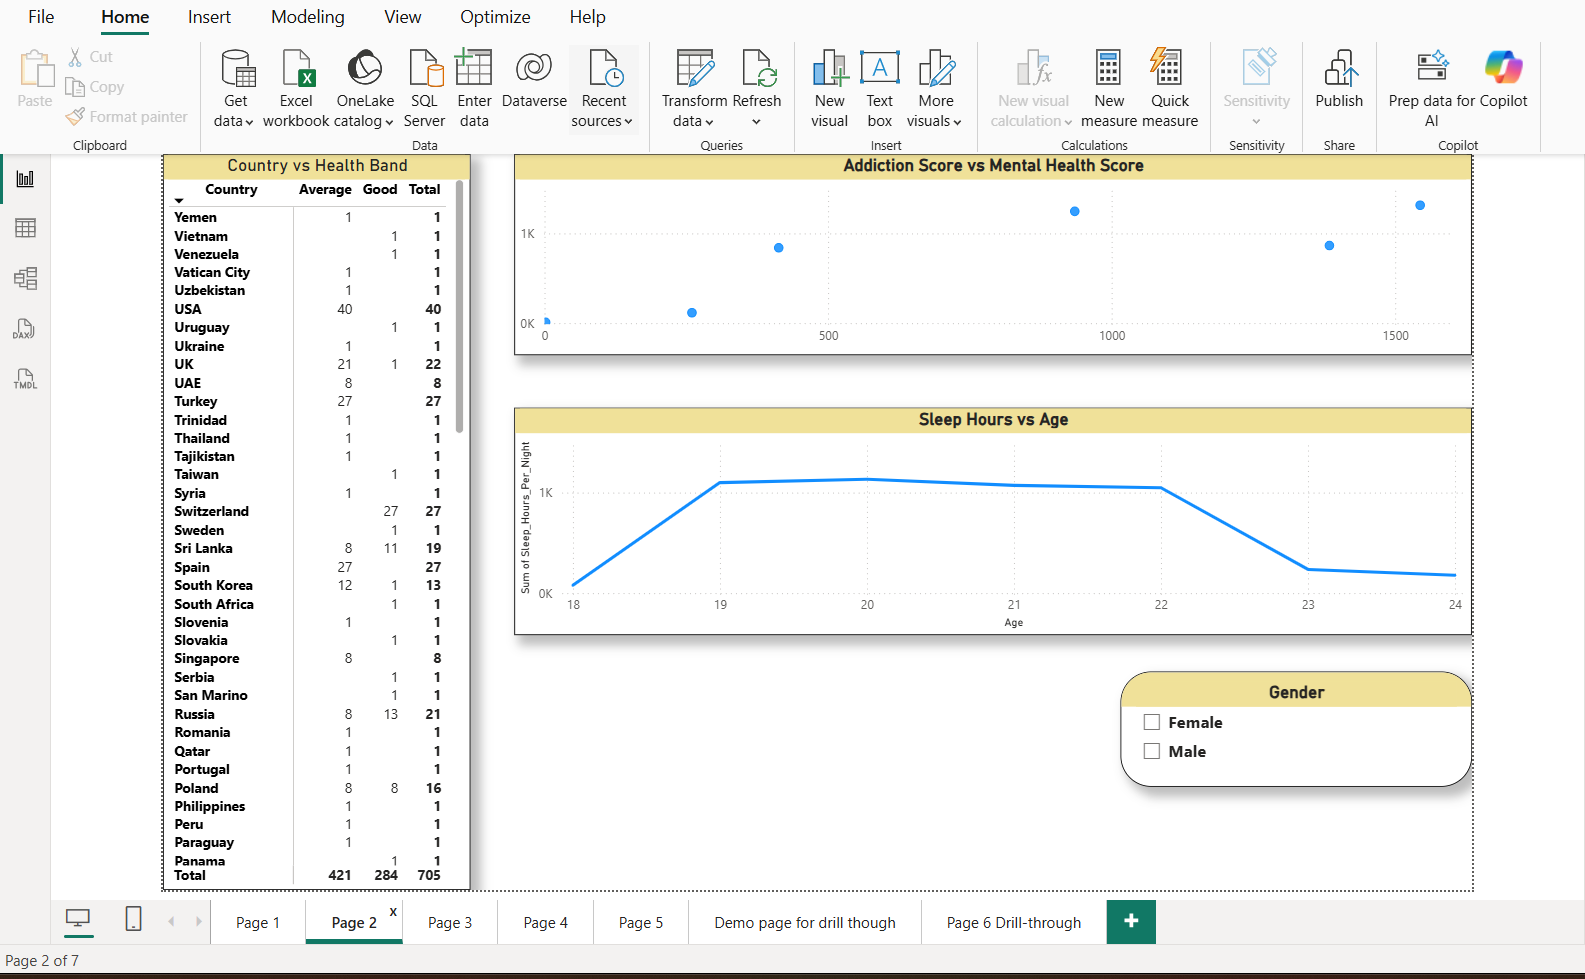

What the dashboard file says about the page in this screenshot:
{"tool":"powerbi","page":{"name":"Page 2","canvas":[1280,720],"ordinal":1},"visuals":[{"type":"pivotTable","title":"Country vs Health Band","fields":{"Rows":["Student Details.Country"],"Columns":["Student Details.01 Health Band"],"Values":["CountNonNull(Student Details.Student_ID)"]},"box":[0,0,300.8,720.2],"z":0},{"type":"scatterChart","title":"Addiction Score vs Mental Health Score","fields":{"X":["Sum(Student Details.Addicted_Score)"],"Y":["Sum(Student Details.Mental_Health_Score)"],"Category":["Student Details.Mental_Health_Score","Student Details.Addicted_Score"]},"box":[343.6,0,936.7,196.9],"z":1000},{"type":"lineChart","title":"Sleep Hours vs Age","fields":{"Category":["Student Details.Age"],"Y":["Sum(Student Details.Sleep_Hours_Per_Night)"]},"box":[343.6,248.2,936.7,222.6],"z":2000},{"type":"slicer","title":"Gender","fields":{"Values":["Student Details.Gender"]},"box":[936.7,506.3,343.6,112.5],"z":3000}]}

Visuals, with their boxes on the page's 1280x720 design canvas (x1, y1, x2, y2). These are canvas units, not pixel positions in the 1585x979 screenshot, which may show the page scaled, cropped or inside an application window:
"Country vs Health Band" pivotTable: (0,0,301,720)
"Addiction Score vs Mental Health Score" scatterChart: (344,0,1280,197)
"Sleep Hours vs Age" lineChart: (344,248,1280,471)
"Gender" slicer: (937,506,1280,619)
